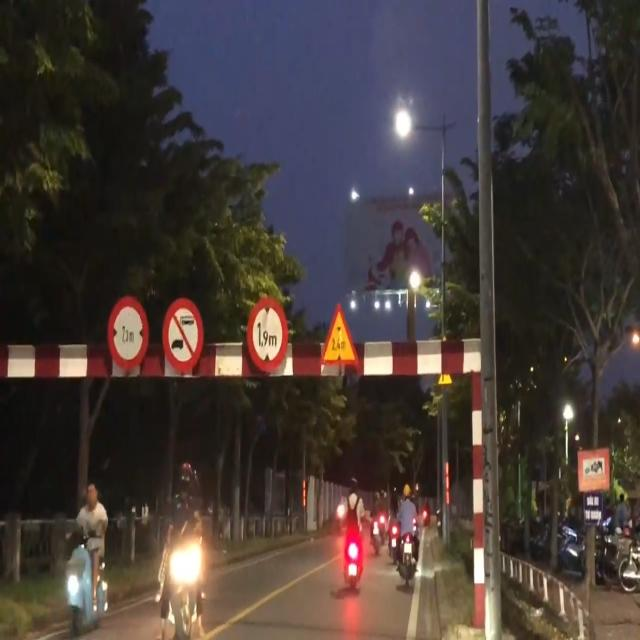Bien bao cam xe oto khach va xe oto tai: (160, 291, 202, 378)
Bien bao chieu cao tinh khong thuc te: (319, 295, 356, 369)
Bien bao han che chieu cao: (243, 291, 289, 381)
